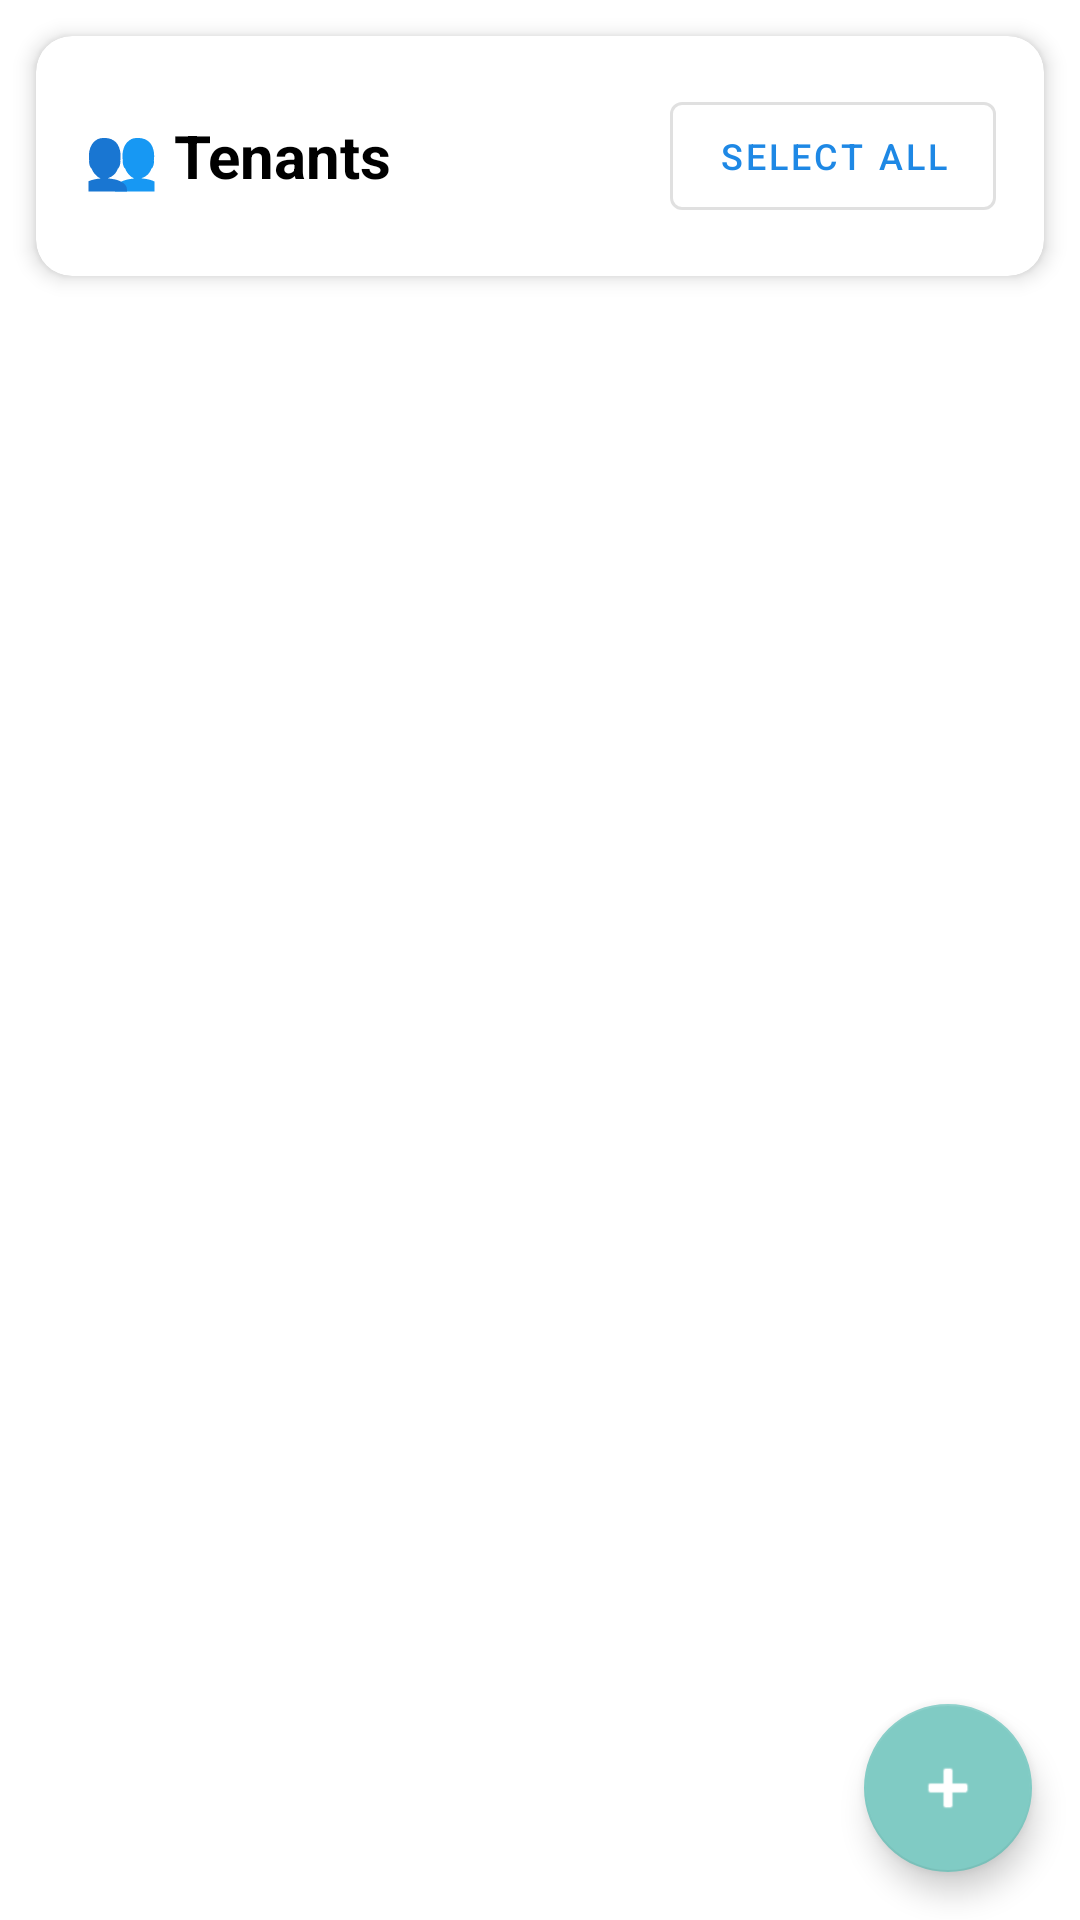

Where icons sit on this 1080 × 1920 app screen, as (x1, y1, x2, y2):
Add Tenant: (864, 1704, 1032, 1872)
